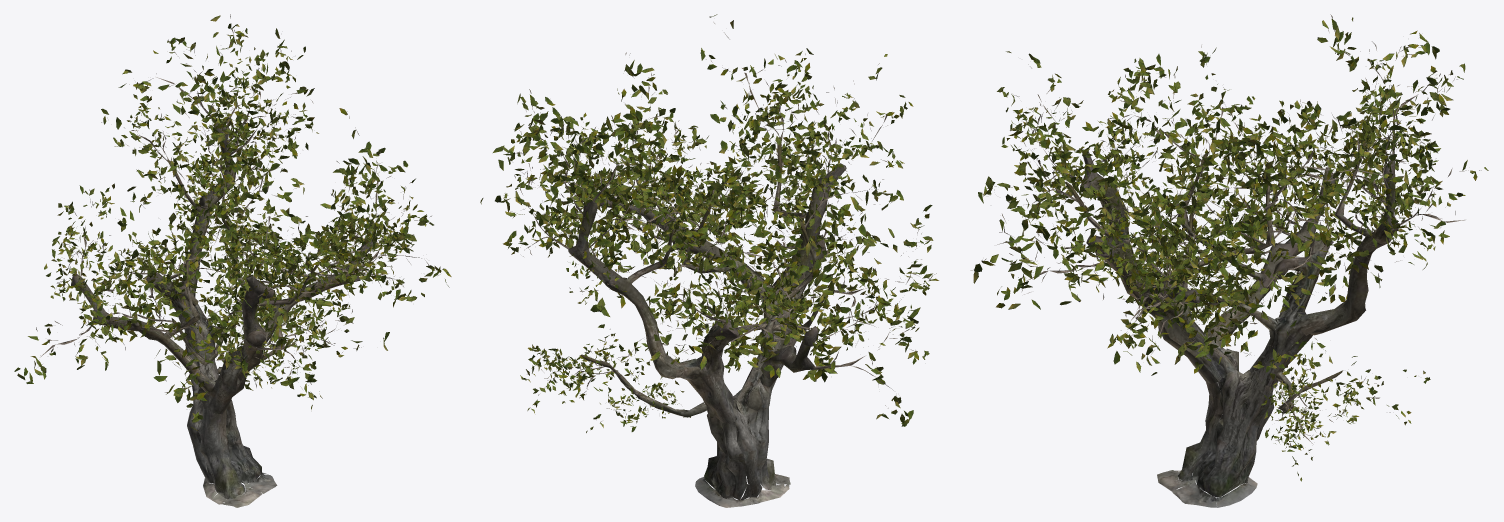
The model's file is island_tree_01_far.glb.
3 views of the same model, side by side, from view 1: azimuth 30°, elevation 25°; view 2: azimuth 150°, elevation 25°; view 3: azimuth 270°, elevation 25° (orthographic). The views are drawn at different scales.
Visible parts, largest first — view 1: island_tree_01_LOD0; view 2: island_tree_01_LOD0; view 3: island_tree_01_LOD0.
Boxes of the visible parts, x1,y1,x2,y2 form: island_tree_01_LOD0: (14, 14, 451, 507); island_tree_01_LOD0: (480, 14, 938, 507); island_tree_01_LOD0: (970, 14, 1488, 507).
Size of the model in its own units: 4.68 by 4.97 by 4.67.
3 materials, 3 textured.
